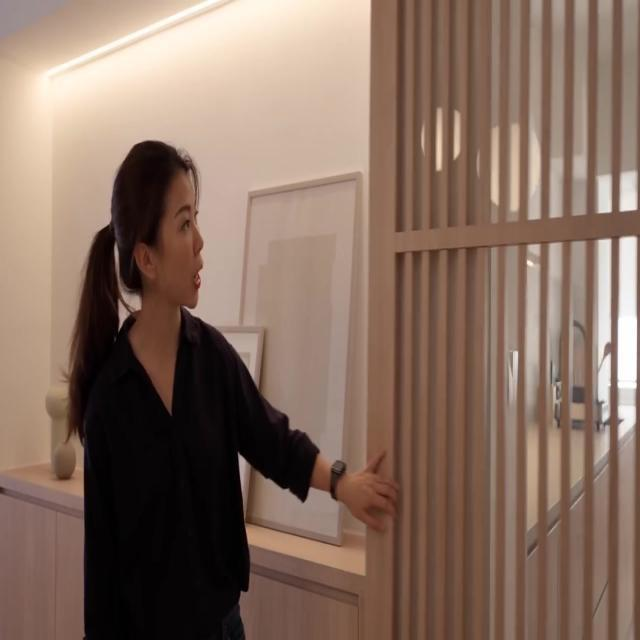door: (373, 0, 639, 638)
person: (78, 137, 400, 638)
